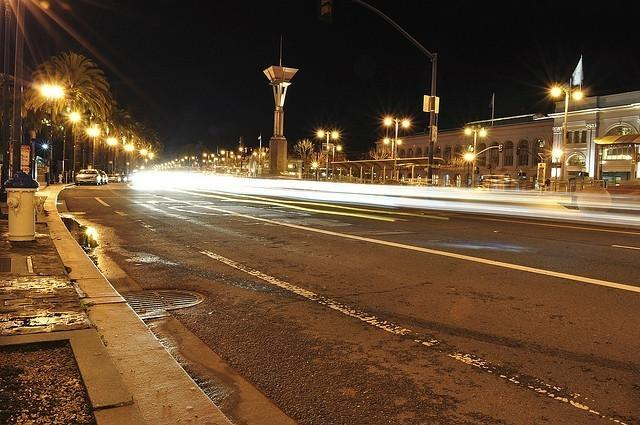car: (75, 170, 102, 186), (108, 174, 123, 183), (100, 174, 109, 186), (120, 175, 128, 183)
